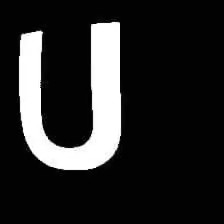LTR_U: (0, 16, 140, 179)
